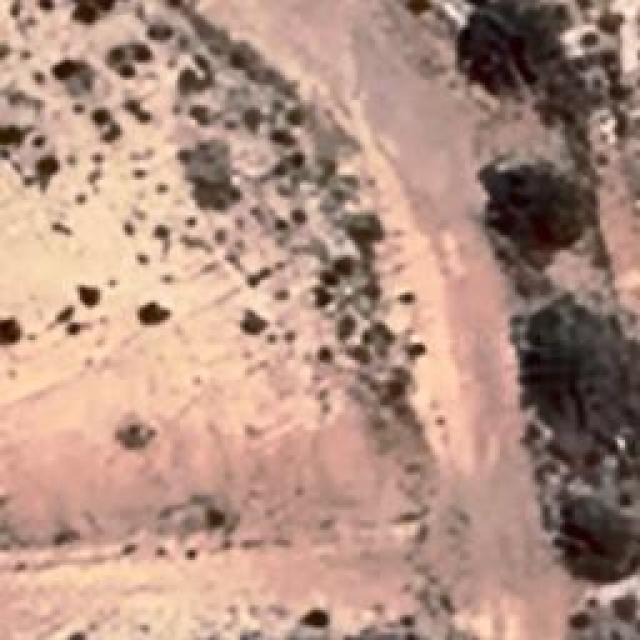PalmTree: (509, 310, 599, 408), (494, 156, 578, 242), (550, 504, 628, 588), (464, 13, 534, 86)
